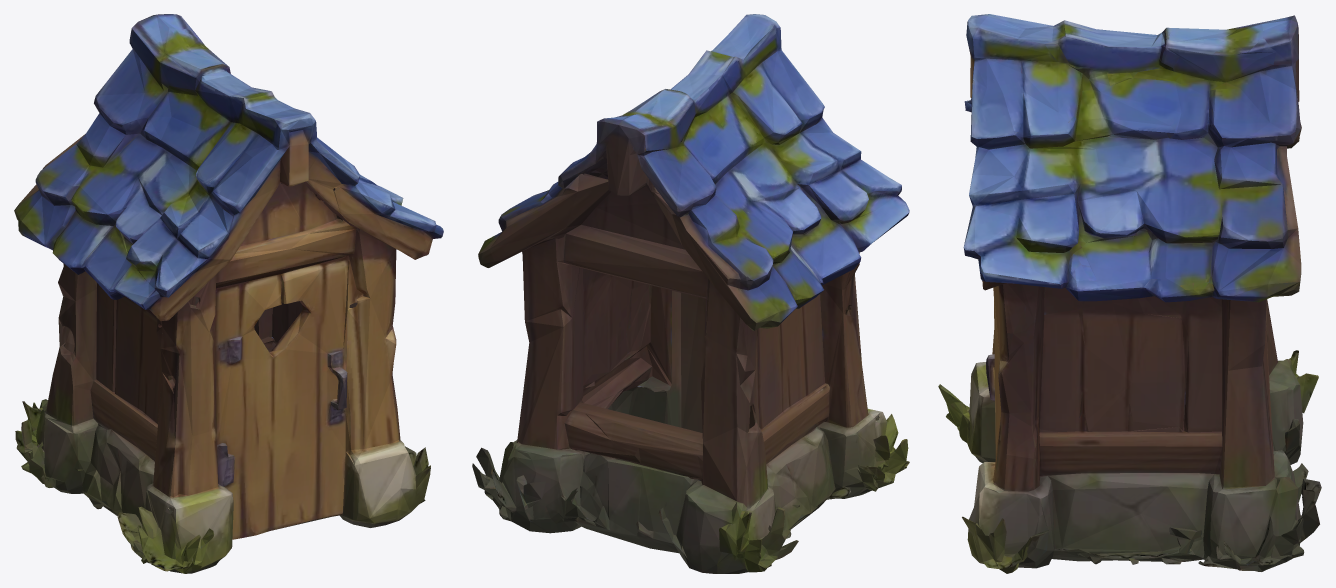
Rendered from outhouse_blue.glb.
3 views of the same model, side by side, from view 1: azimuth 30°, elevation 25°; view 2: azimuth 150°, elevation 25°; view 3: azimuth 270°, elevation 25° (orthographic). The views are drawn at different scales.
Parts seen in each view (by area): view 1: world; view 2: world; view 3: world.
Boxes of the visible parts, x1,y1,x2,y2 form: world: (14, 14, 443, 573); world: (472, 14, 909, 573); world: (938, 14, 1321, 573).
Size of the model in its own units: 0.5938 by 0.8072 by 0.5705.
1 material, 1 textured.
